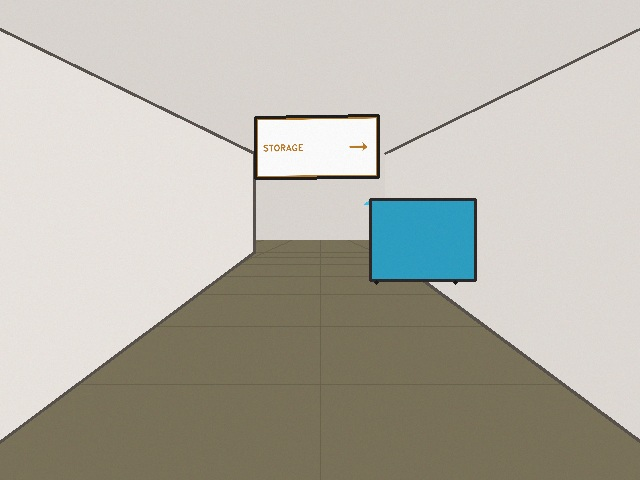cart: (364, 199, 475, 280)
directional_sign: (255, 115, 378, 178)
